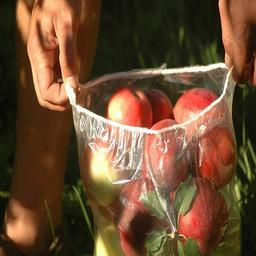apple: (113, 177, 170, 254), (177, 180, 227, 253), (186, 120, 237, 186), (80, 137, 127, 205), (146, 119, 191, 188), (105, 85, 151, 130), (171, 87, 219, 127)
